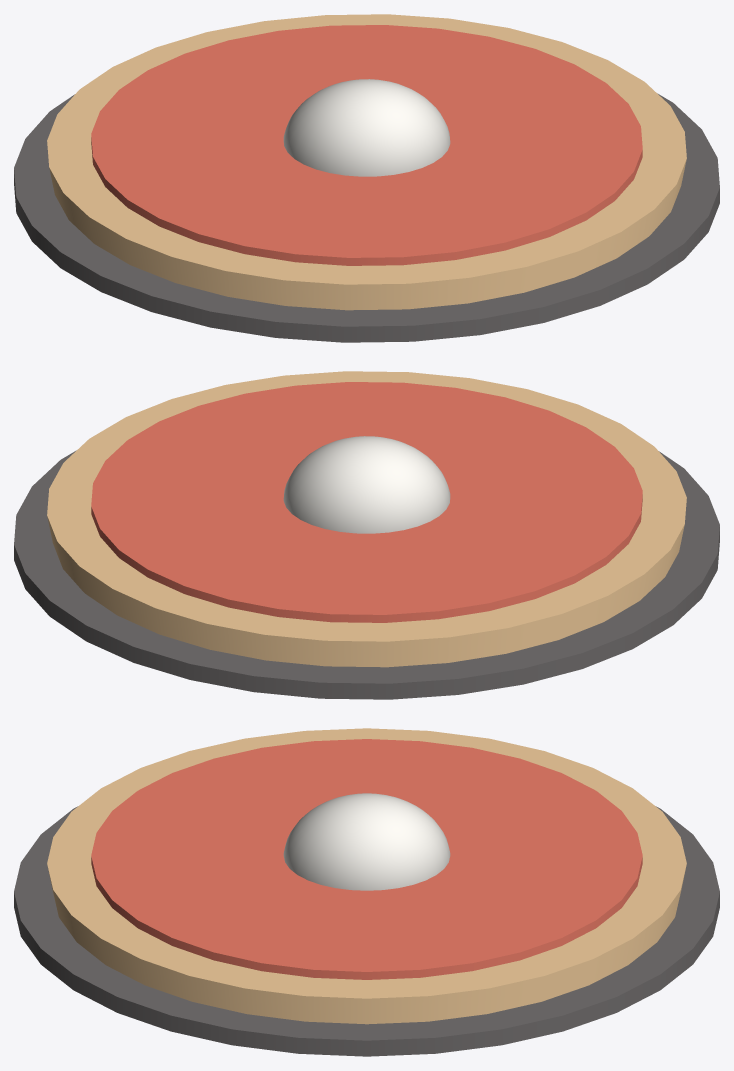
The model's file is pizza.glb.
3 renders of one model, top to bottom at view 1: azimuth 30°, elevation 25°; view 2: azimuth 150°, elevation 25°; view 3: azimuth 270°, elevation 25°, orthographic.
Parts seen in each view (by area): view 1: DishRoot; view 2: DishRoot; view 3: DishRoot.
Part boxes in pixels (x1,y1,x2,y2): DishRoot: (14,14,719,342); DishRoot: (14,371,719,699); DishRoot: (14,728,719,1056).
Bounding box in the file's own units: 0.32 × 0.052 × 0.32.
